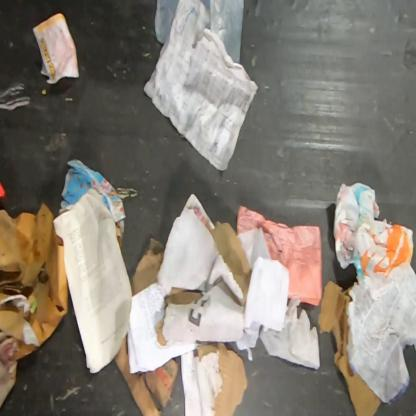cardboard: (0, 200, 70, 414), (155, 221, 251, 349), (317, 279, 383, 416), (113, 332, 181, 415), (192, 343, 248, 415), (129, 236, 165, 297)
soft_plastic: (154, 0, 245, 64)
